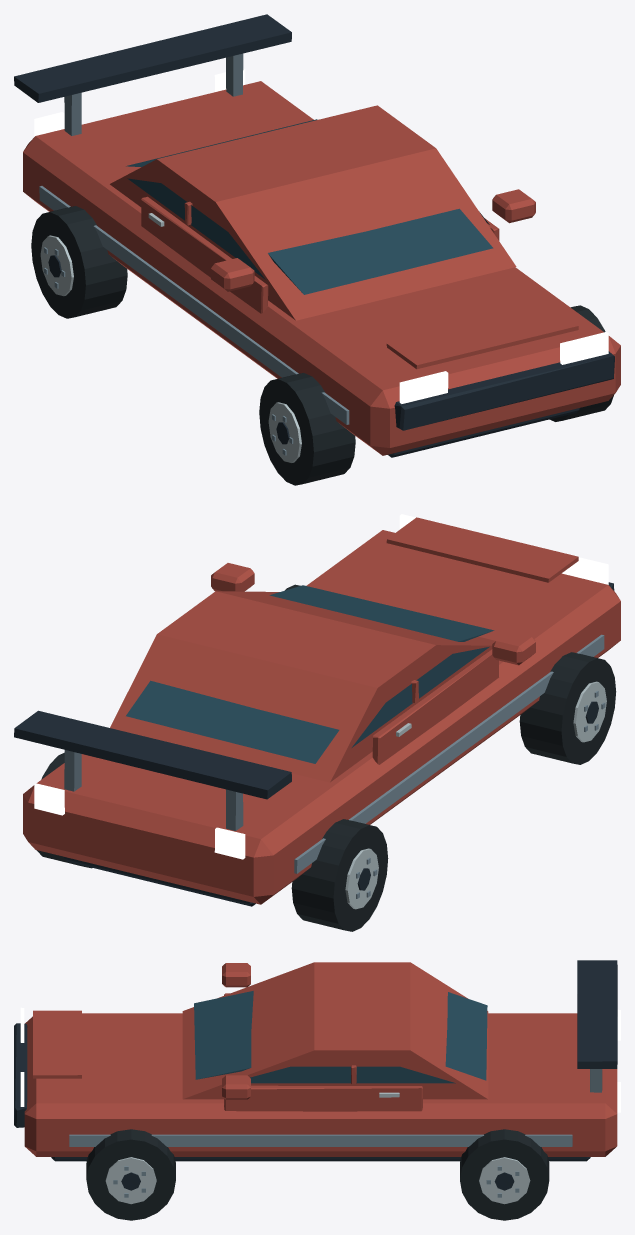
File: road-sports.lod1.glb
3 renders of one model, top to bottom at view 1: azimuth 30°, elevation 25°; view 2: azimuth 150°, elevation 25°; view 3: azimuth 270°, elevation 25°, orthographic. The views are drawn at different scales.
Parts seen in each view (by area): view 1: road-sports__body, road-sports__wheel_steer_0_l, road-sports__wheel_steer_1_l, road-sports__door_-1, road-sports__wheel_steer_0_r; view 2: road-sports__body, road-sports__wheel_steer_1_l, road-sports__wheel_steer_0_l, road-sports__door_-1; view 3: road-sports__body, road-sports__door_1, road-sports__wheel_steer_0_r, road-sports__wheel_steer_1_r.
Part boxes in pixels (box(x1,y1,x2,y2)): road-sports__body: box(14, 14, 620, 457); road-sports__wheel_steer_0_l: box(259, 373, 355, 485); road-sports__wheel_steer_1_l: box(31, 206, 127, 318); road-sports__door_-1: box(127, 178, 268, 313); road-sports__wheel_steer_0_r: box(549, 305, 613, 421); road-sports__body: box(14, 514, 620, 906); road-sports__wheel_steer_1_l: box(291, 819, 388, 931); road-sports__wheel_steer_0_l: box(519, 652, 616, 764); road-sports__door_-1: box(352, 646, 498, 764); road-sports__body: box(14, 960, 620, 1161); road-sports__door_1: box(224, 1065, 455, 1111); road-sports__wheel_steer_0_r: box(86, 1129, 175, 1220); road-sports__wheel_steer_1_r: box(460, 1129, 549, 1220).
Bounding box in the file's own units: 2.25 × 1.29 × 4.61.
